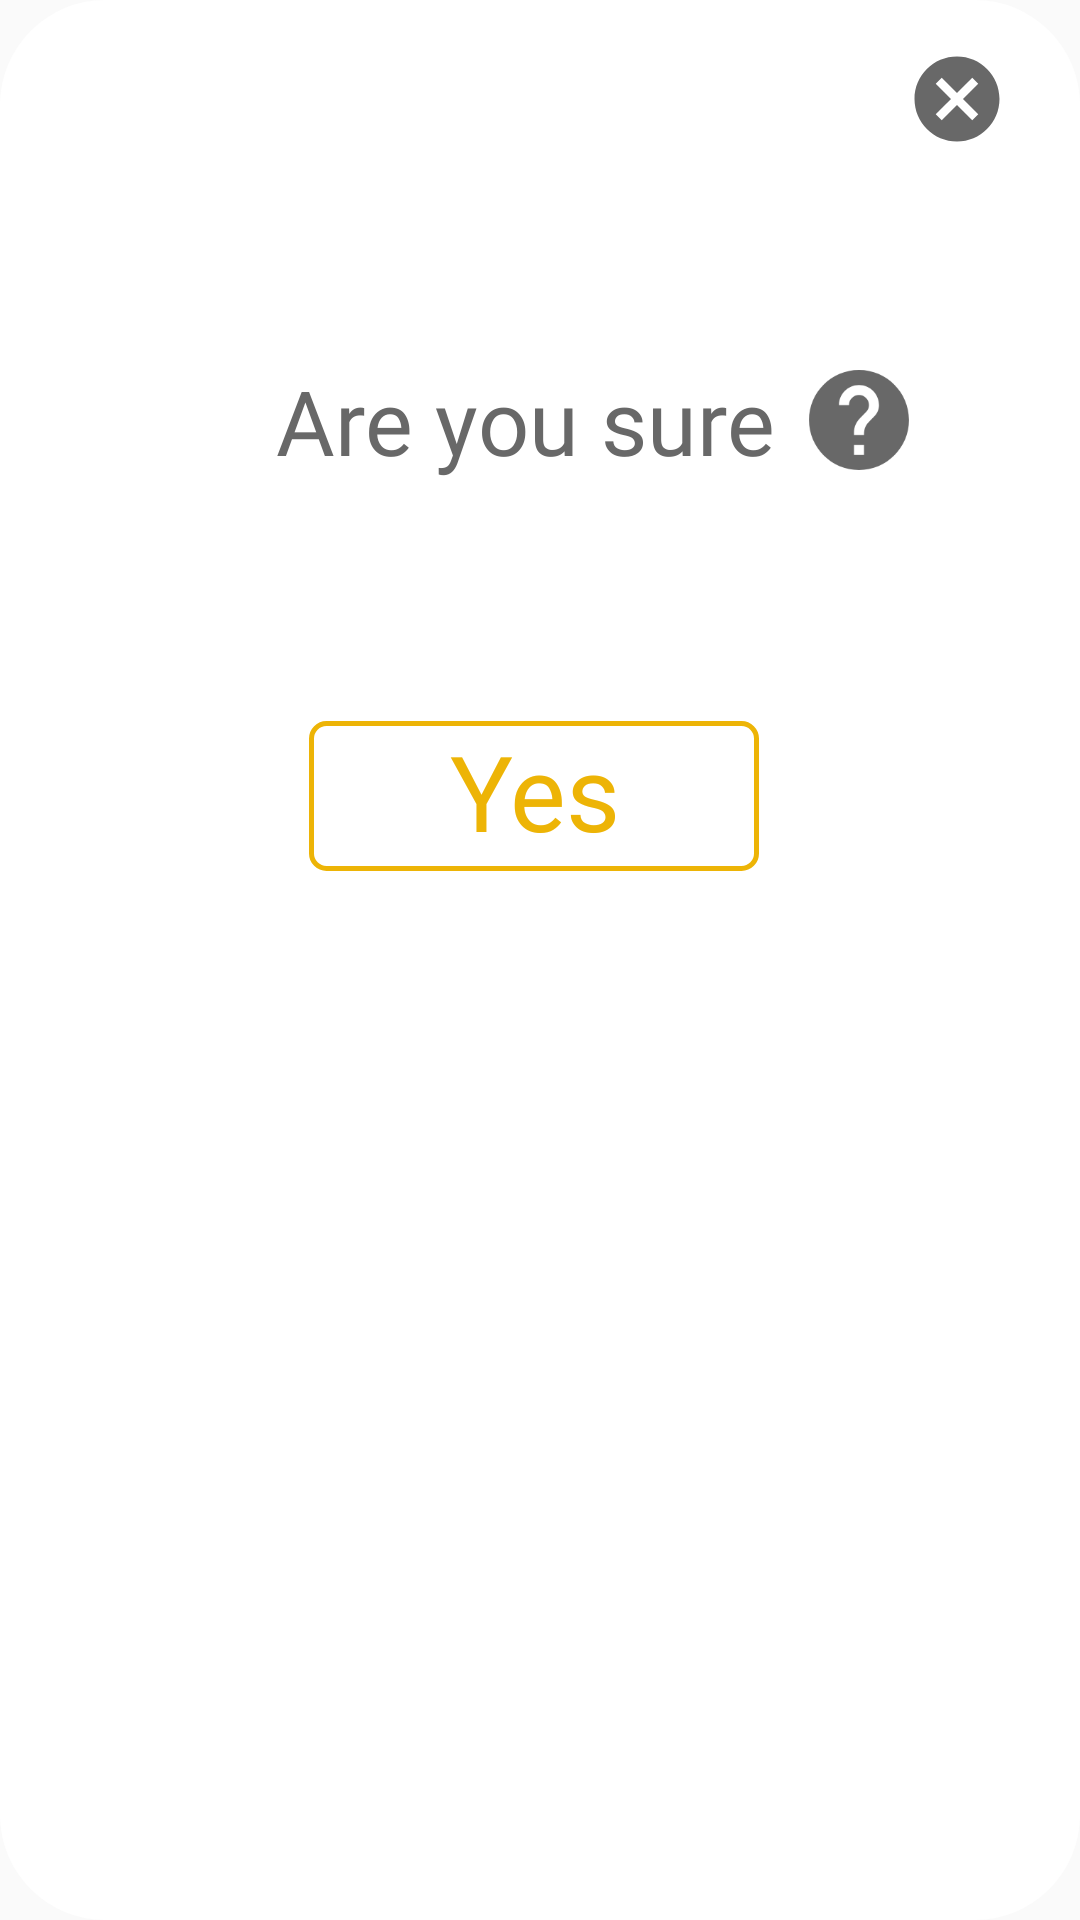

Screen size 1080×1920. Icon name, then its center in pixels as point (x, y):
icancel: point (957, 99)
ihelp: point (859, 420)
